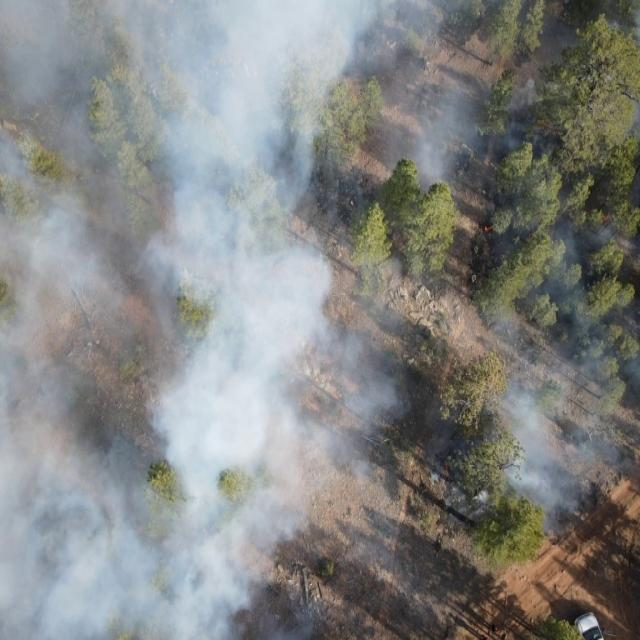fire: (600, 210, 612, 224), (481, 222, 493, 233)
smoke: (0, 0, 364, 640), (364, 184, 640, 546), (363, 0, 556, 181), (365, 545, 473, 640), (611, 0, 640, 154)
